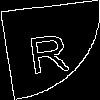R: (25, 24, 70, 75)
